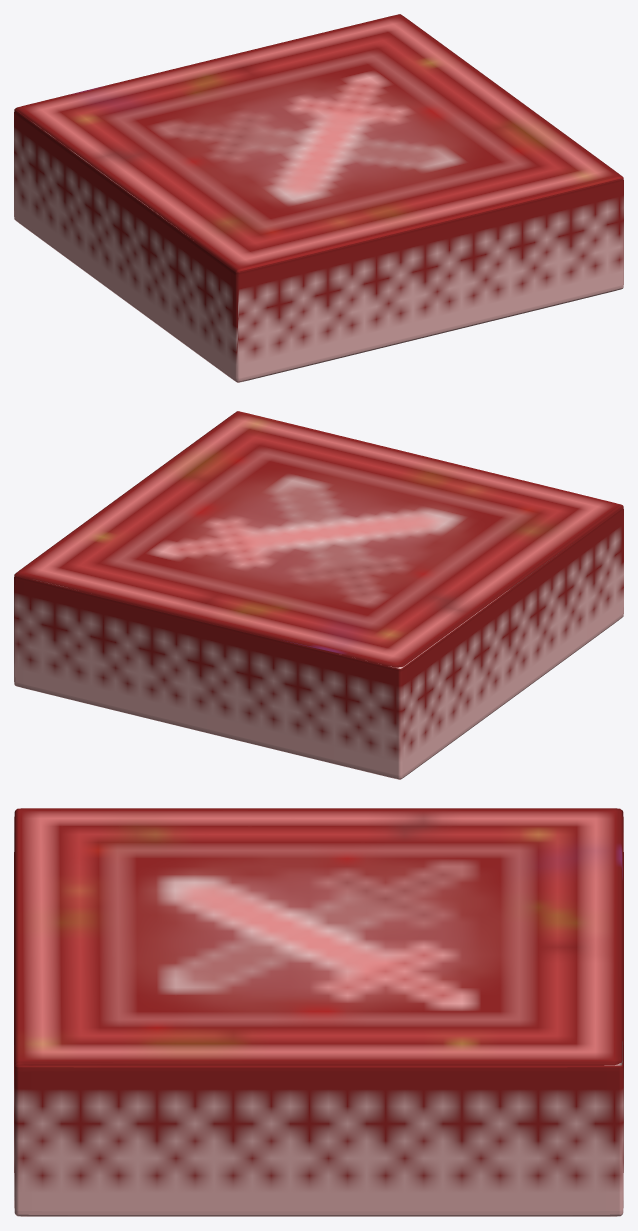
The model's file is PixelTileDuel.fbx.
The picture shows the model from 3 angles, top to bottom: view 1: azimuth 30°, elevation 25°; view 2: azimuth 150°, elevation 25°; view 3: azimuth 270°, elevation 25°; orthographic projection. The views are drawn at different scales.
Visible parts, largest first — view 1: PixelBasic; view 2: PixelBasic; view 3: PixelBasic.
Part boxes in pixels (bbox=[...]): PixelBasic: bbox=[14, 14, 623, 382]; PixelBasic: bbox=[14, 411, 623, 779]; PixelBasic: bbox=[14, 808, 623, 1216].
Size of the model in its own units: 99.99 by 28.04 by 99.99.
Materials: 1 (1 with a texture image).
